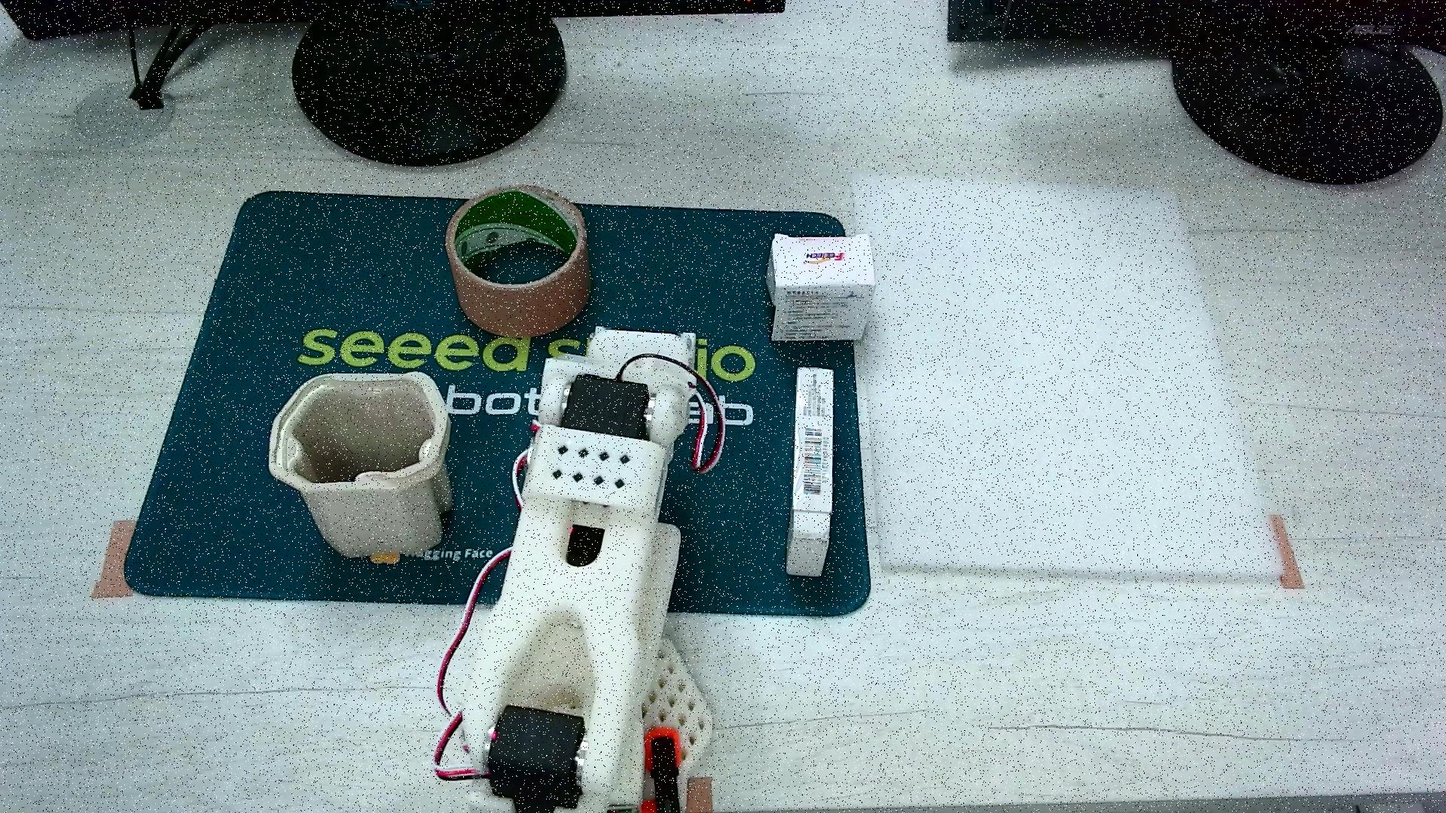eraser: (767, 234, 875, 340)
